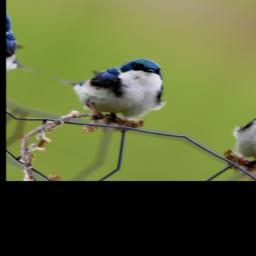Swallow: (34, 36, 189, 137)
